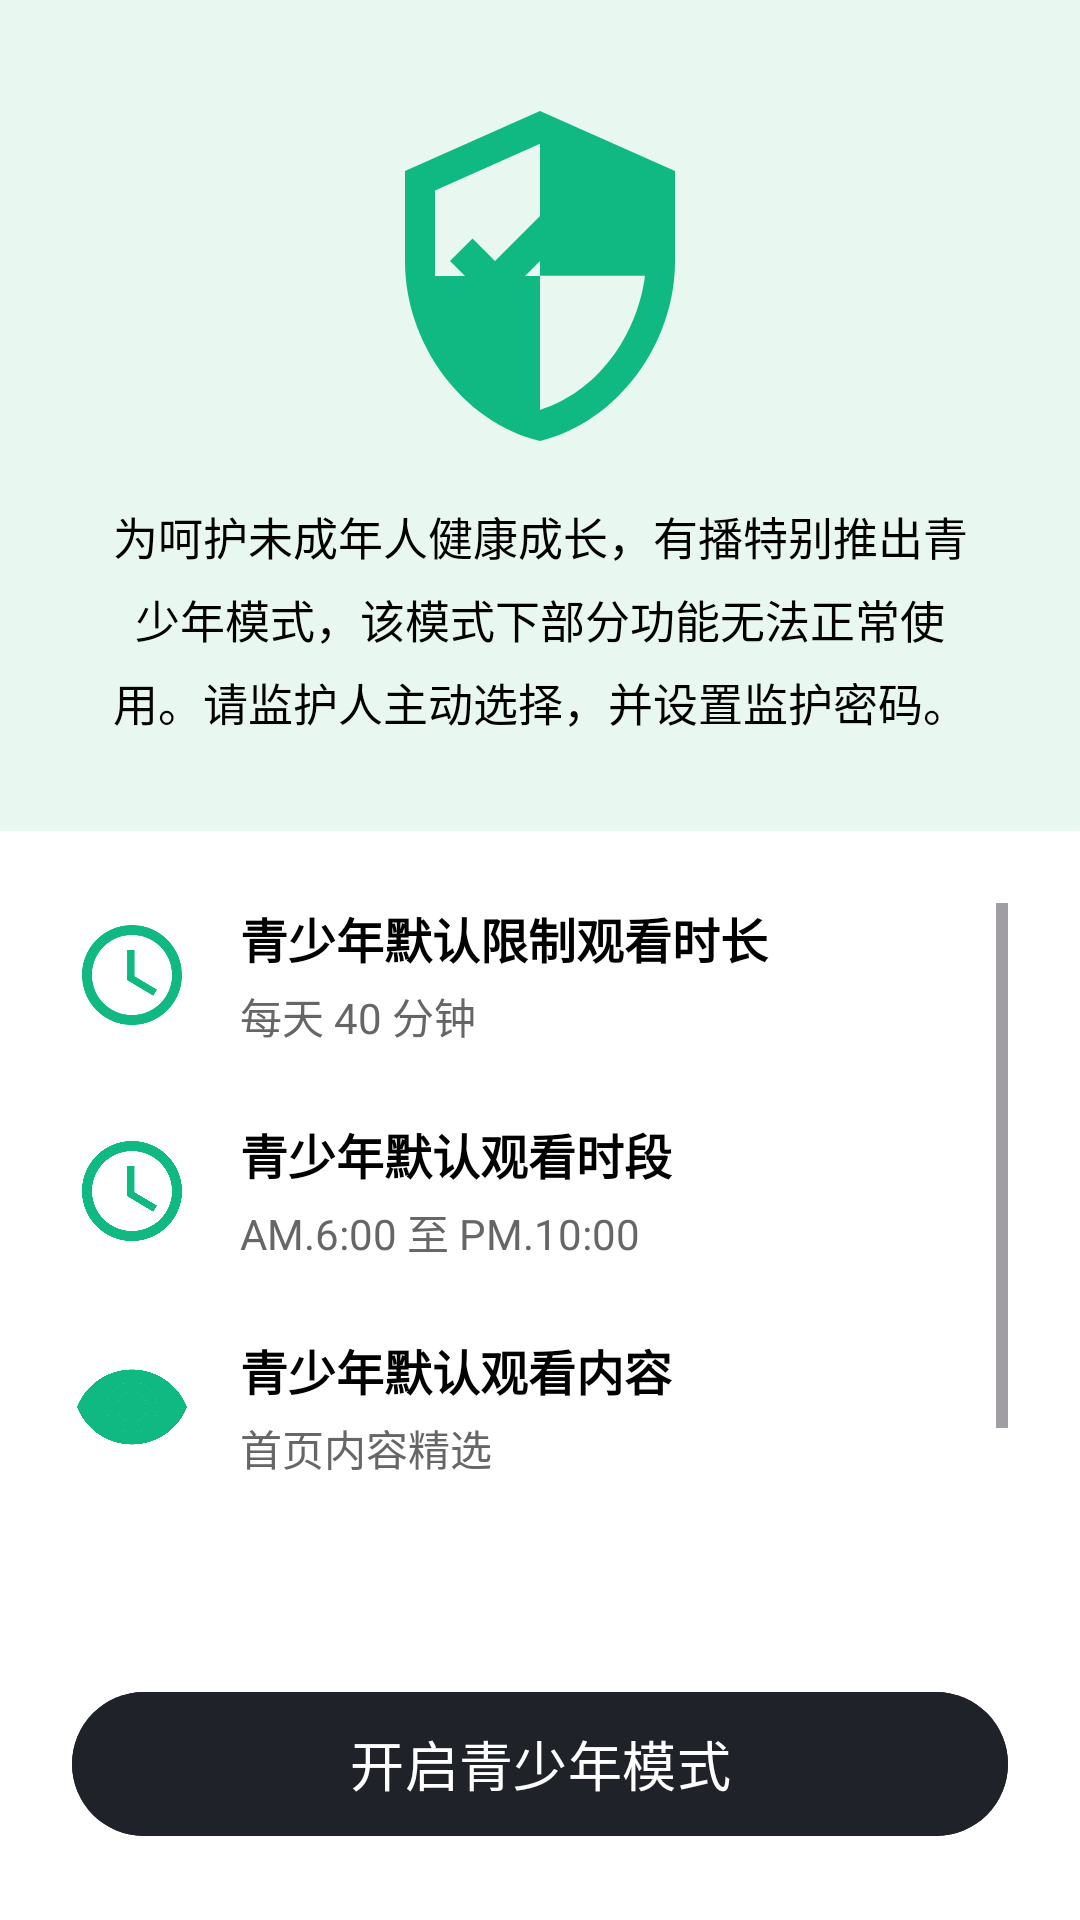

Icons on this 1080 × 1920 Android screen, each with its box as (x1, y1, x2, y2):
clock: (82, 925, 182, 1025)
shield check: (405, 111, 675, 441)
time period: (82, 1141, 182, 1241)
